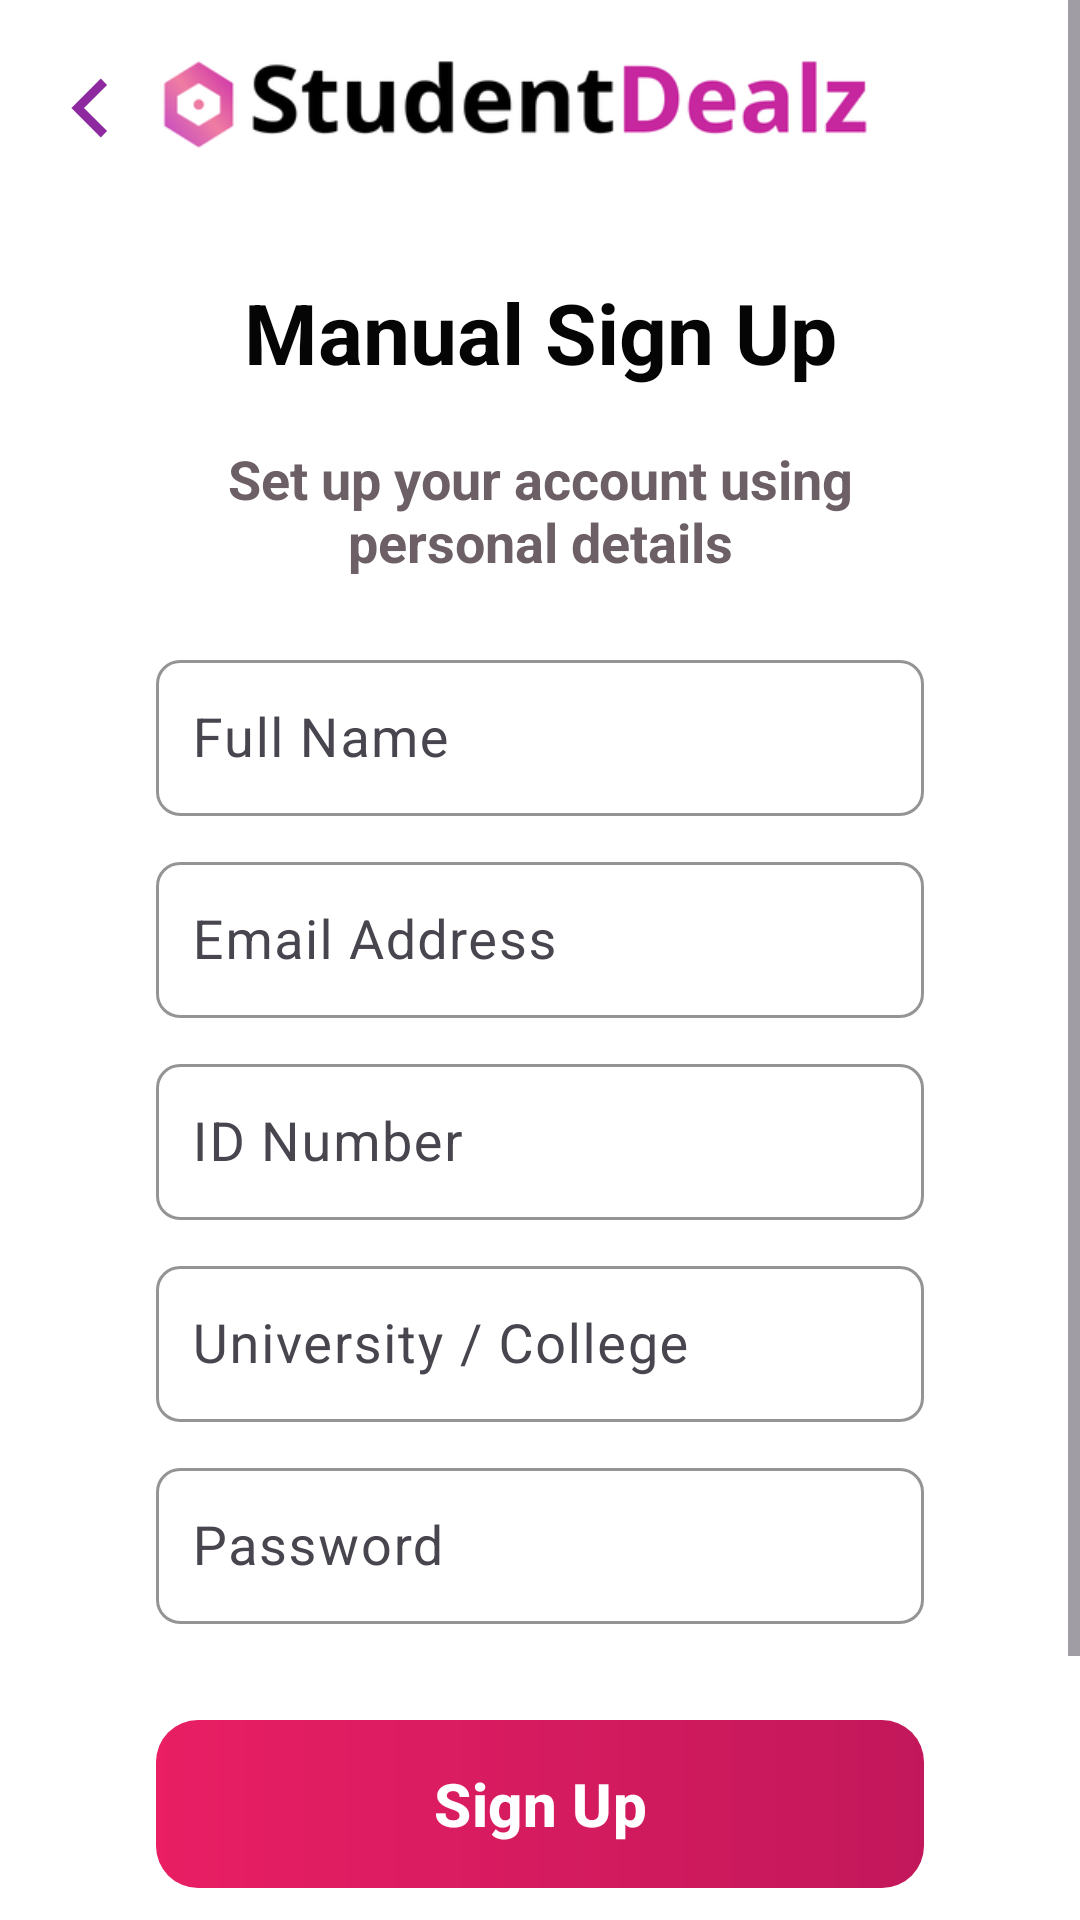

Named icons in this screenshot (1080x1920) and their bounding boxes, (x1, y1, x2, y2):
Back: (71, 78, 107, 138)
